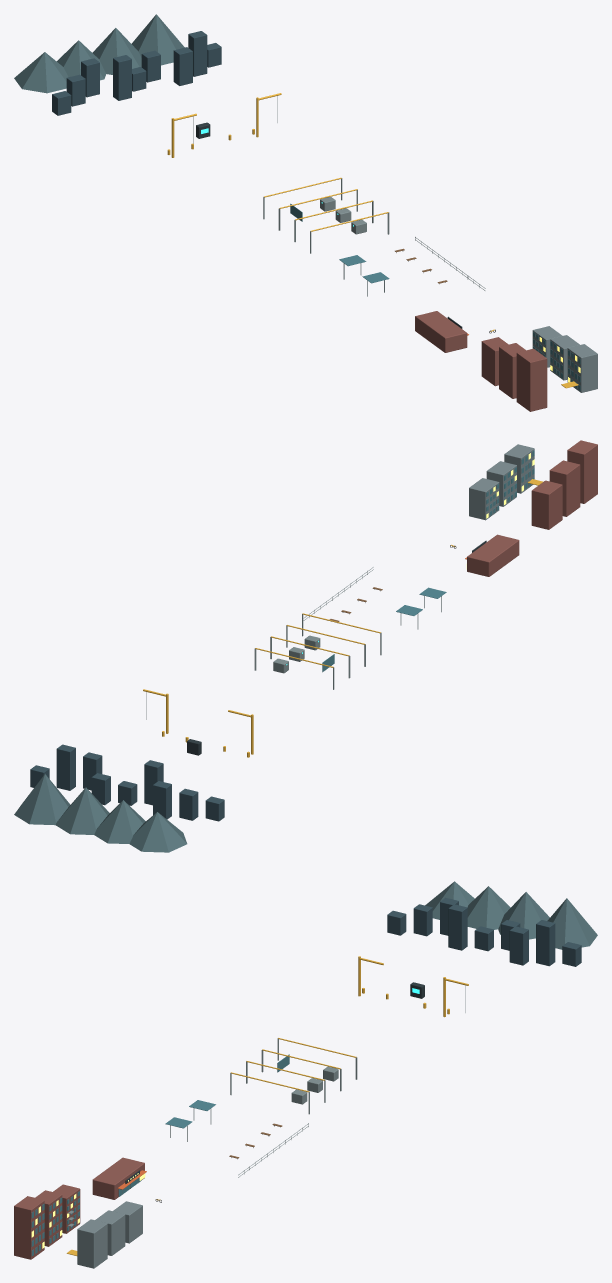
The model's file is rain_city_run_foundry.glb.
The picture shows the model from 3 angles, top to bottom: view 1: azimuth 30°, elevation 25°; view 2: azimuth 150°, elevation 25°; view 3: azimuth 330°, elevation 25°; orthographic projection.
Parts seen in each view (by area): view 1: RainCity_RC_RainBrick_Batch, RainCity_RC_Skyline_Batch, RainCity_RC_Mountain_Batch, RainCity_RC_WetConcrete_Batch, RainCity_RC_HarbourSteel_Batch, RainCity_RC_ComplianceYellow_Batch, RainCity_RC_GlassPanels_Batch; view 2: RainCity_RC_Mountain_Batch, RainCity_RC_RainBrick_Batch, RainCity_RC_Skyline_Batch, RainCity_RC_WetConcrete_Batch, RainCity_RC_HarbourSteel_Batch, RainCity_RC_ComplianceYellow_Batch, RainCity_RC_GlassPanels_Batch; view 3: RainCity_RC_Skyline_Batch, RainCity_RC_Mountain_Batch, RainCity_RC_RainBrick_Batch, RainCity_RC_WetConcrete_Batch, RainCity_RC_GlassPanels_Batch, RainCity_RC_HarbourSteel_Batch, RainCity_RC_ComplianceYellow_Batch.
Boxes of the visible parts, <box> form: RainCity_RC_RainBrick_Batch: <box>415,311,547,411</box>; RainCity_RC_Skyline_Batch: <box>52,31,221,115</box>; RainCity_RC_Mountain_Batch: <box>14,14,184,93</box>; RainCity_RC_WetConcrete_Batch: <box>532,326,597,392</box>; RainCity_RC_HarbourSteel_Batch: <box>193,96,485,296</box>; RainCity_RC_ComplianceYellow_Batch: <box>167,93,578,388</box>; RainCity_RC_GlassPanels_Batch: <box>290,203,580,390</box>; RainCity_RC_Mountain_Batch: <box>14,774,187,852</box>; RainCity_RC_RainBrick_Batch: <box>467,440,597,576</box>; RainCity_RC_Skyline_Batch: <box>30,744,224,821</box>; RainCity_RC_WetConcrete_Batch: <box>469,444,534,520</box>; RainCity_RC_HarbourSteel_Batch: <box>146,567,441,719</box>; RainCity_RC_ComplianceYellow_Batch: <box>143,479,543,757</box>; RainCity_RC_GlassPanels_Batch: <box>322,450,534,672</box>; RainCity_RC_Skyline_Batch: <box>387,897,581,966</box>; RainCity_RC_Mountain_Batch: <box>425,881,597,949</box>; RainCity_RC_RainBrick_Batch: <box>14,1157,144,1259</box>; RainCity_RC_WetConcrete_Batch: <box>77,1201,142,1268</box>; RainCity_RC_GlassPanels_Batch: <box>31,1054,289,1256</box>; RainCity_RC_HarbourSteel_Batch: <box>68,985,465,1226</box>; RainCity_RC_ComplianceYellow_Batch: <box>66,956,468,1255</box>.
Bounding box in the file's own units: 52 × 14.06 × 244.
